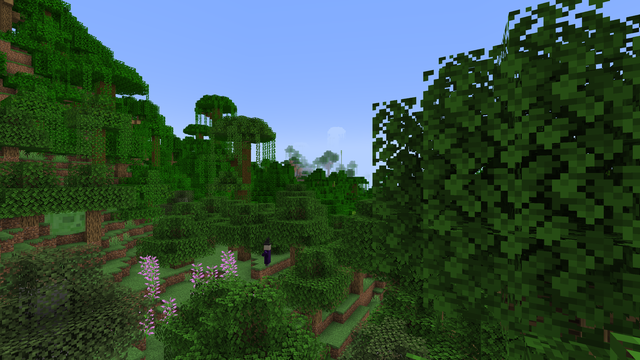slimes: (47, 212, 87, 235)
sorcieres: (262, 242, 271, 266)
